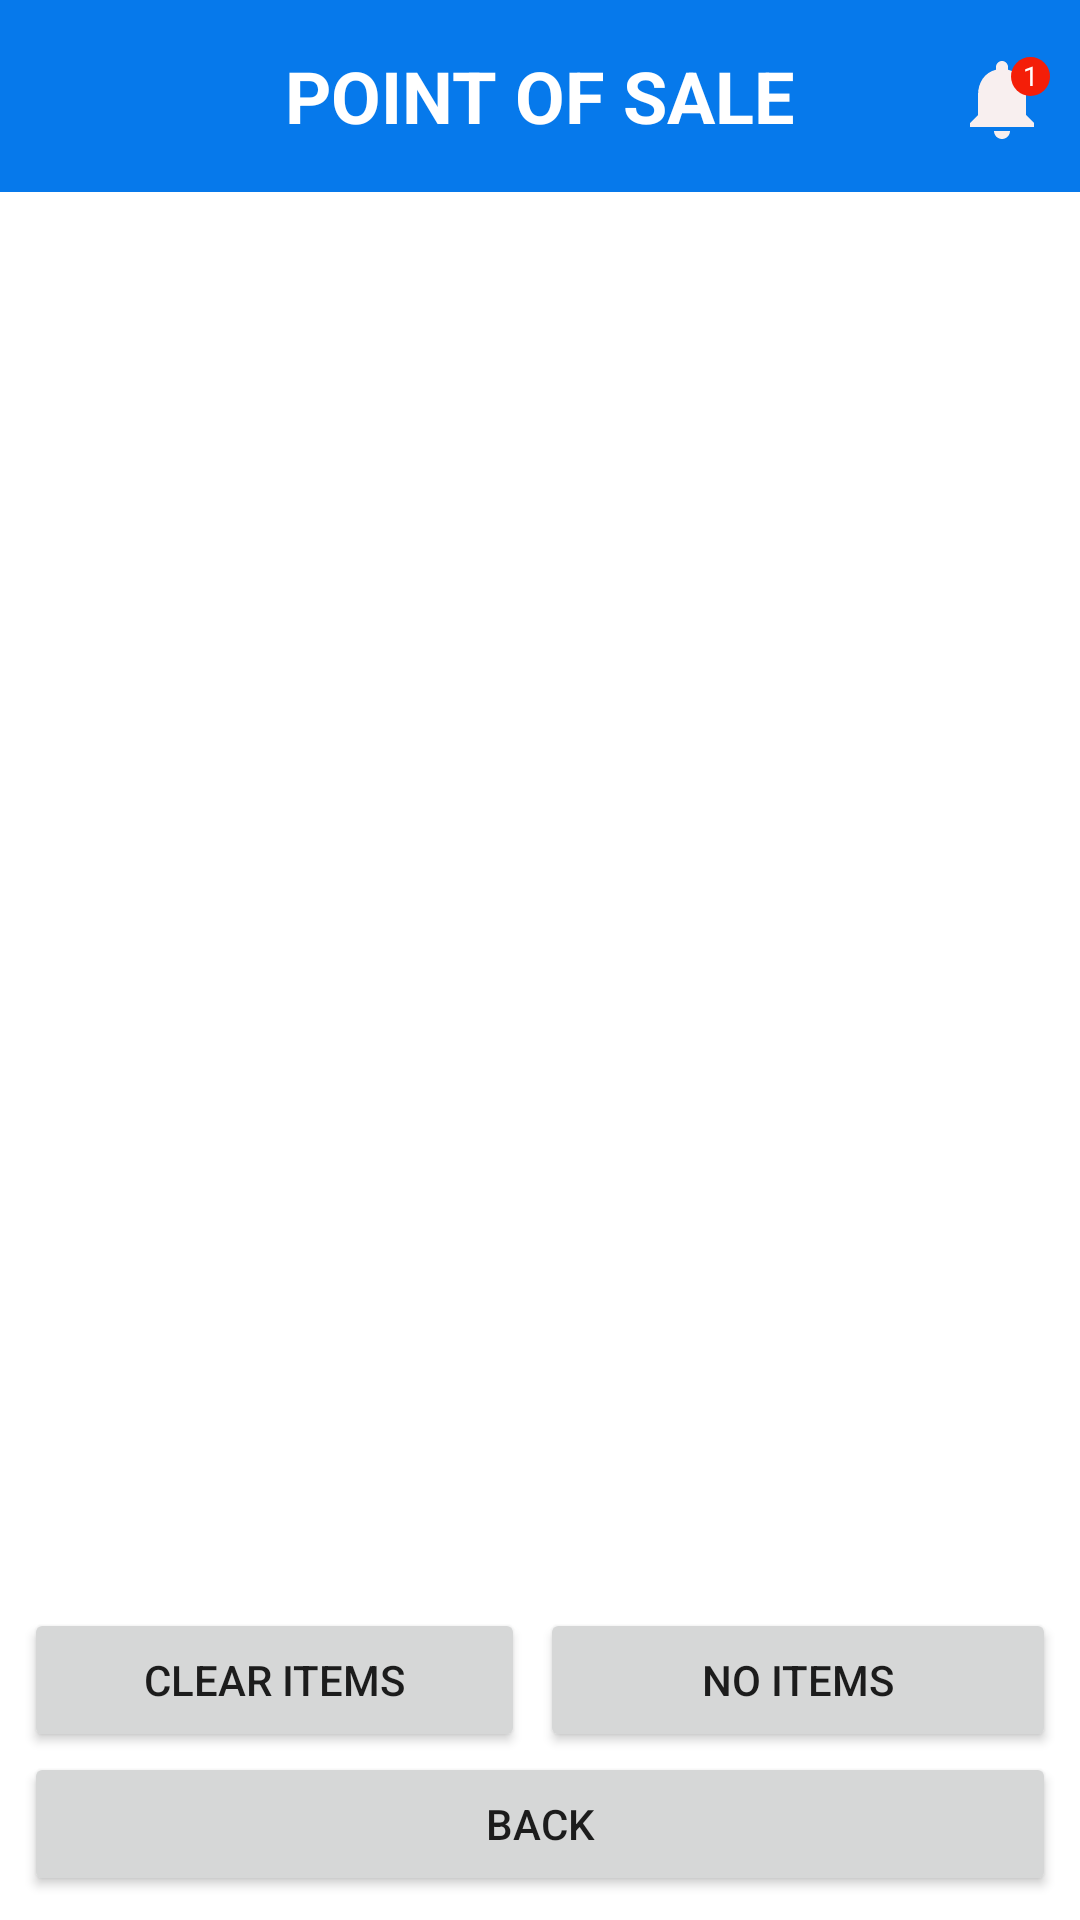

Icon click points for this 1080px x 1920px phone screenshot, format (x,y):
notifications: (1010,98)
